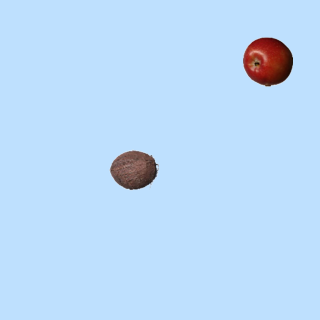Apple Braeburn: (242, 36, 292, 86)
Cocos: (108, 144, 158, 194)
